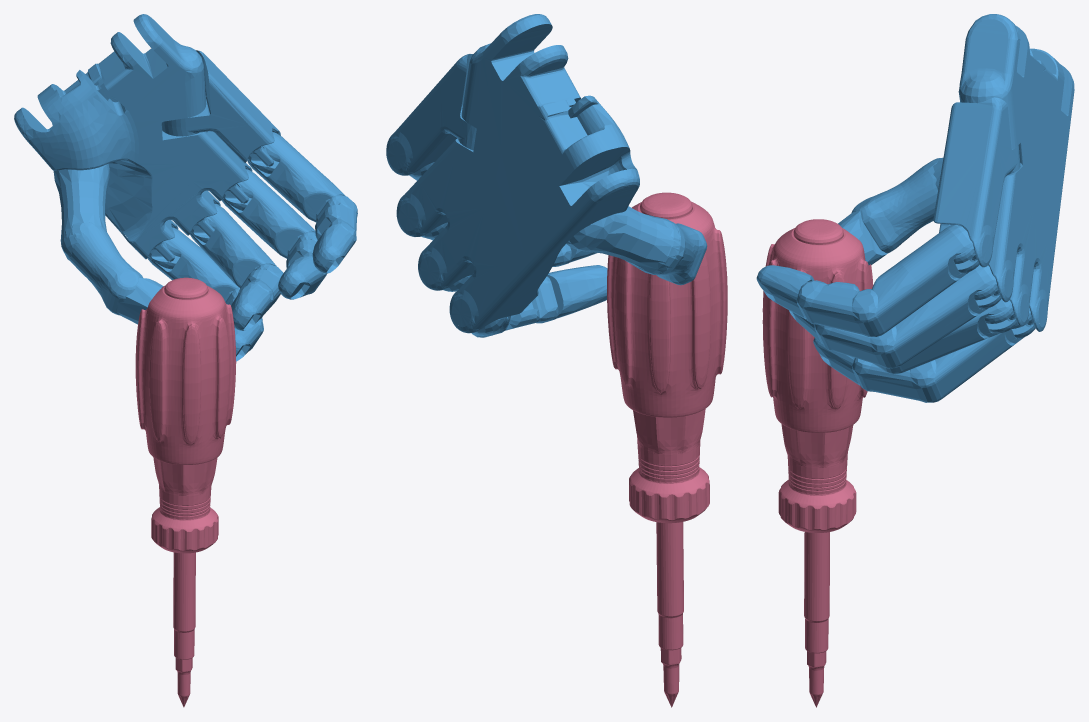
The picture shows the model from 3 angles, left to right: view 1: azimuth 30°, elevation 25°; view 2: azimuth 150°, elevation 25°; view 3: azimuth 270°, elevation 25°; orthographic projection. The views are drawn at different scales.
Parts seen in each view (by area): view 1: 8; view 2: 8; view 3: 8.
Part boxes in pixels (x1,y1,x2,y2): 8: (14, 14, 357, 707); 8: (386, 14, 727, 707); 8: (756, 14, 1074, 707).
Bounding box in the file's own units: 0.1396 × 0.3166 × 0.1277.
